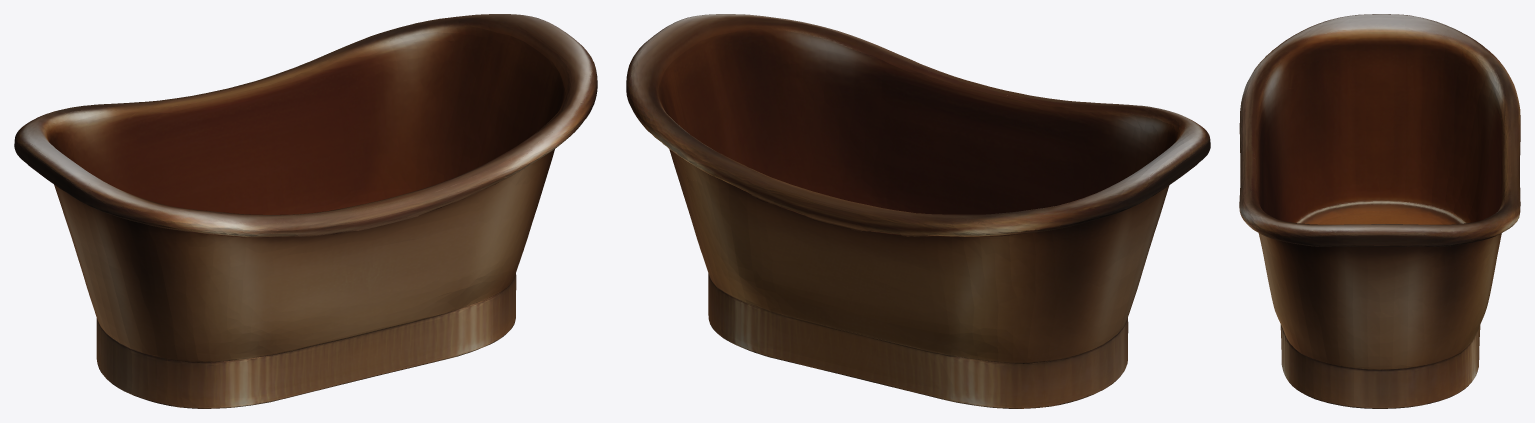
3 renders of one model, left to right at view 1: azimuth 30°, elevation 25°; view 2: azimuth 150°, elevation 25°; view 3: azimuth 270°, elevation 25°, orthographic. The views are drawn at different scales.
Visible parts, largest first — view 1: world; view 2: world; view 3: world.
Part boxes in pixels (box(x1,y1,x2,y2)): world: box(14, 14, 597, 408); world: box(626, 14, 1210, 408); world: box(1239, 14, 1520, 408).
Size of the model in its own units: 1 by 0.4423 by 0.5429.
1 material, 1 textured.
